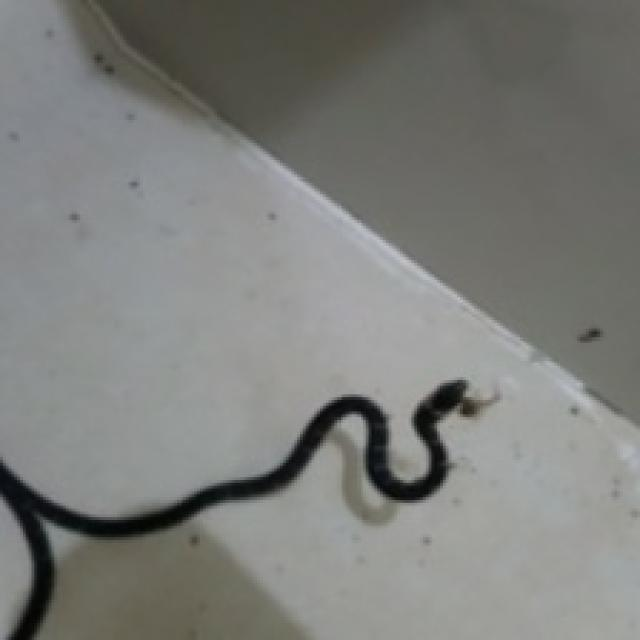gunthers philippine shrub snake: (0, 380, 486, 637)
